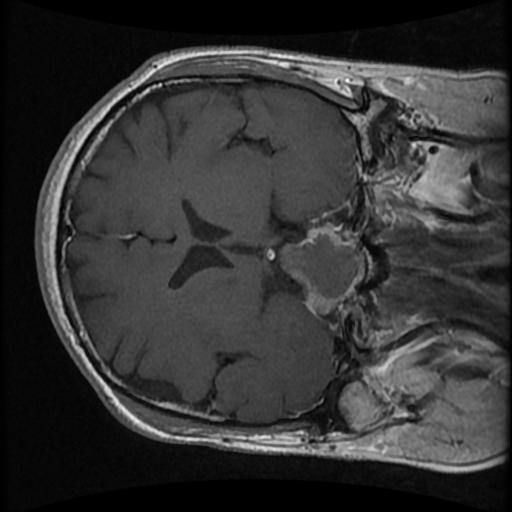pituitary tumour: (280, 226, 367, 316)
